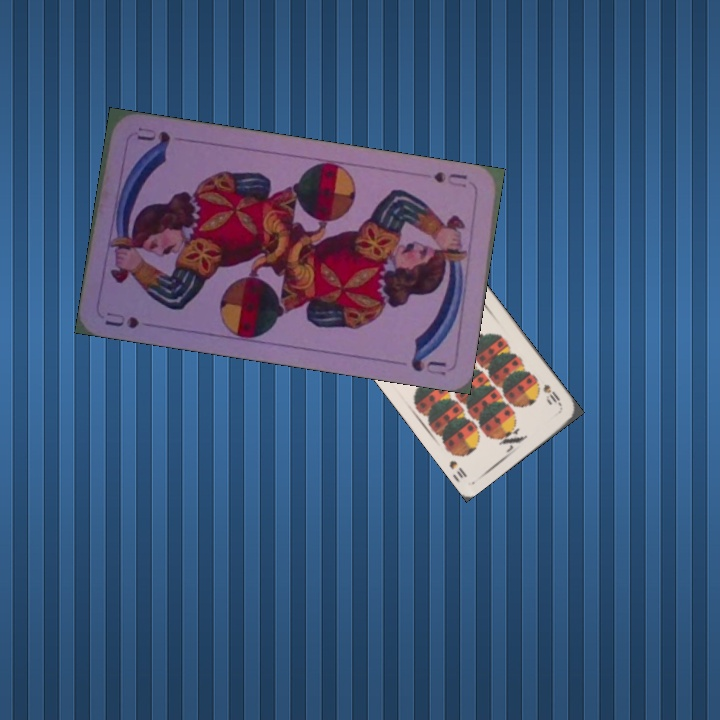S10: (539, 380, 564, 411)
SU: (429, 167, 470, 191), (101, 308, 142, 331)
